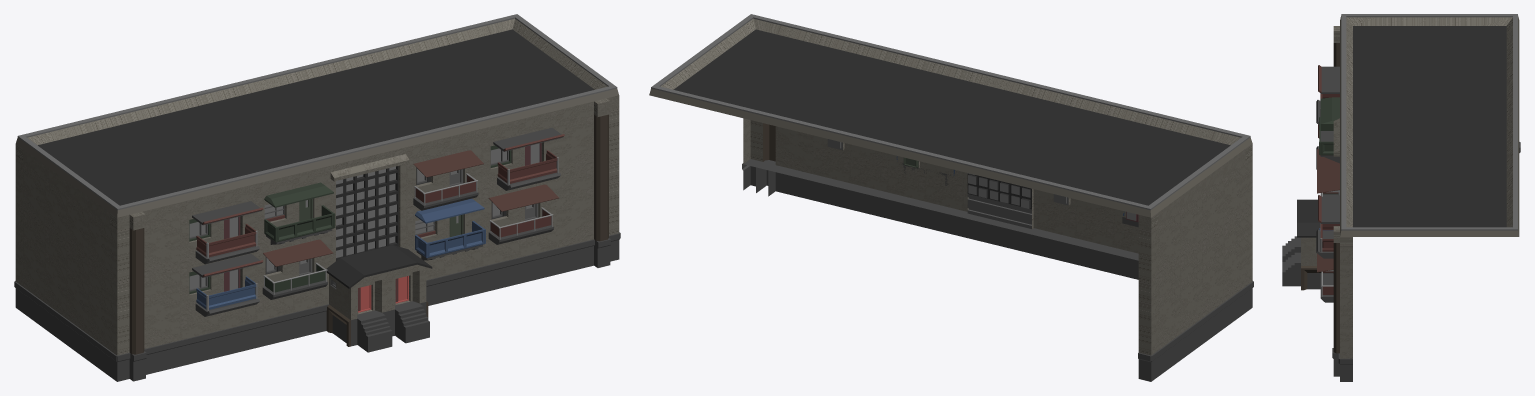
The model's file is BLOCK1.3.fbx.
The picture shows the model from 3 angles, left to right: view 1: azimuth 30°, elevation 25°; view 2: azimuth 150°, elevation 25°; view 3: azimuth 270°, elevation 25°; orthographic projection. The views are drawn at different scales.
Visible parts, largest first — view 1: Plane.154, Plane.124, Plane.156, Plane.213, Plane.143, Plane.169, Plane.158, Plane.185, Plane.200, Plane.155, Plane.193, Plane.178 (+39 smaller); view 2: Plane.154, Plane.124, Plane.156, Plane.169, Plane.212, Plane.131, Plane.152, Plane.135, Plane.149, Plane.142, Plane.145, Plane.148 (+21 smaller); view 3: Plane.124, Plane.154, Plane.213, Plane.122, Plane.126, Plane.121, Plane.127, Plane.131, Plane.176, Plane.134, Plane.148, Plane.129 (+40 smaller).
Boxes of the visible parts, x1=… form: Plane.154: x1=15, y1=95, x2=619, y2=355; Plane.124: x1=75, y1=46, x2=559, y2=192; Plane.156: x1=14, y1=232, x2=620, y2=381; Plane.213: x1=326, y1=245, x2=432, y2=352; Plane.143: x1=336, y1=166, x2=398, y2=228; Plane.169: x1=336, y1=213, x2=398, y2=260; Plane.158: x1=195, y1=224, x2=259, y2=264; Plane.185: x1=195, y1=276, x2=259, y2=316; Plane.200: x1=497, y1=150, x2=560, y2=190; Plane.155: x1=264, y1=205, x2=335, y2=244; Plane.193: x1=415, y1=221, x2=485, y2=260; Plane.178: x1=413, y1=173, x2=478, y2=210; Plane.154: x1=743, y1=118, x2=1252, y2=355; Plane.124: x1=709, y1=46, x2=1192, y2=192; Plane.156: x1=742, y1=159, x2=1253, y2=381; Plane.169: x1=967, y1=173, x2=1031, y2=209; Plane.212: x1=967, y1=194, x2=1031, y2=228; Plane.131: x1=730, y1=14, x2=786, y2=45; Plane.152: x1=930, y1=62, x2=987, y2=94; Plane.135: x1=817, y1=35, x2=874, y2=67; Plane.149: x1=993, y1=78, x2=1050, y2=110; Plane.142: x1=854, y1=44, x2=912, y2=76; Plane.145: x1=1030, y1=87, x2=1088, y2=119; Plane.148: x1=892, y1=53, x2=949, y2=85; Plane.124: x1=1378, y1=36, x2=1480, y2=220; Plane.154: x1=1333, y1=26, x2=1352, y2=358; Plane.213: x1=1282, y1=199, x2=1333, y2=290; Plane.122: x1=1378, y1=14, x2=1416, y2=36; Plane.126: x1=1442, y1=14, x2=1480, y2=36; Plane.121: x1=1340, y1=14, x2=1378, y2=36; Plane.127: x1=1481, y1=14, x2=1519, y2=36; Plane.131: x1=1340, y1=213, x2=1378, y2=236; Plane.176: x1=1481, y1=213, x2=1519, y2=236; Plane.134: x1=1340, y1=51, x2=1378, y2=74; Plane.148: x1=1340, y1=143, x2=1378, y2=166; Plane.129: x1=1340, y1=35, x2=1378, y2=58.
Size of the model in its own units: 4020 by 1310 by 1860.
